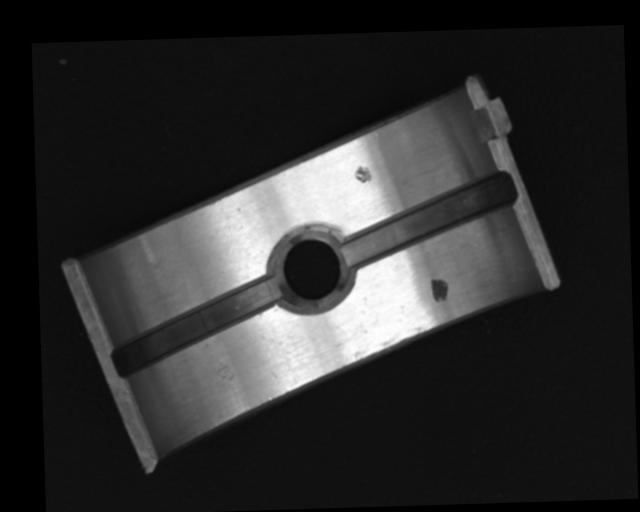blot: (429, 276, 449, 303)
bruise: (353, 164, 373, 184)
gap: (109, 275, 286, 376), (340, 170, 518, 270)
hole: (274, 225, 349, 307)
